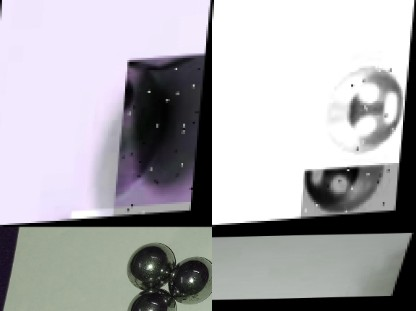ironball: (115, 56, 206, 219), (312, 63, 410, 164), (302, 166, 402, 220), (128, 242, 174, 287), (173, 253, 212, 304), (73, 206, 195, 221), (119, 285, 180, 309)
